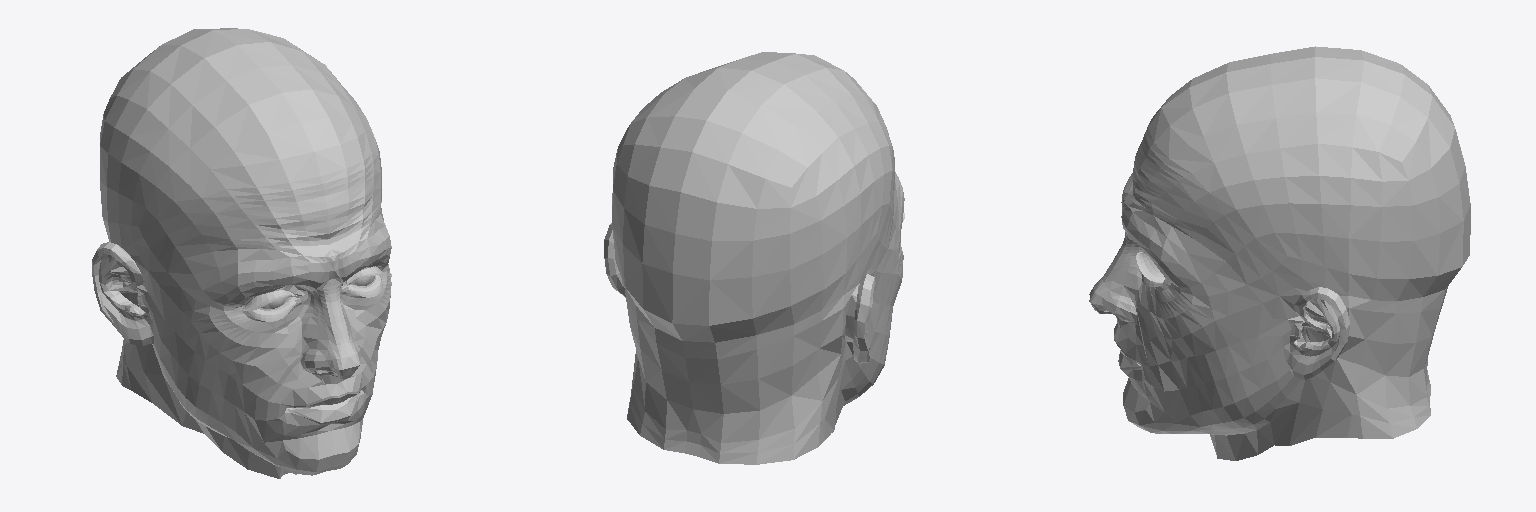
Rendered from 05pos.obj.
The picture shows the model from 3 angles: view 1: azimuth 30°, elevation 25°; view 2: azimuth 150°, elevation 25°; view 3: azimuth 270°, elevation 25°; orthographic projection.
Visible parts, largest first — view 1: head; view 2: head; view 3: head.
Boxes of the visible parts, <box> form: head: <box>92,28,391,478</box>; head: <box>604,52,904,464</box>; head: <box>1089,46,1470,460</box>.
Size of the model in its own units: 0.0743 by 0.1058 by 0.092.